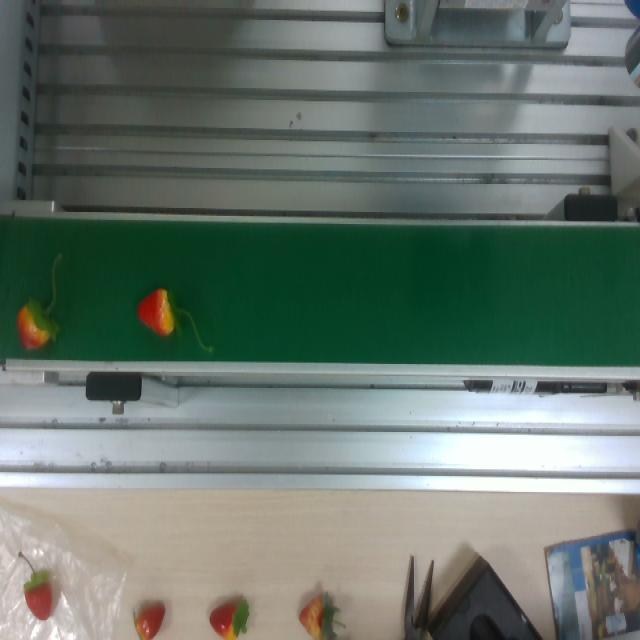Large Ripe Strawberry: (15, 546, 59, 622)
Small Unripe Strawberry: (133, 278, 200, 342), (11, 286, 64, 355)
conveyor: (4, 212, 640, 385)
